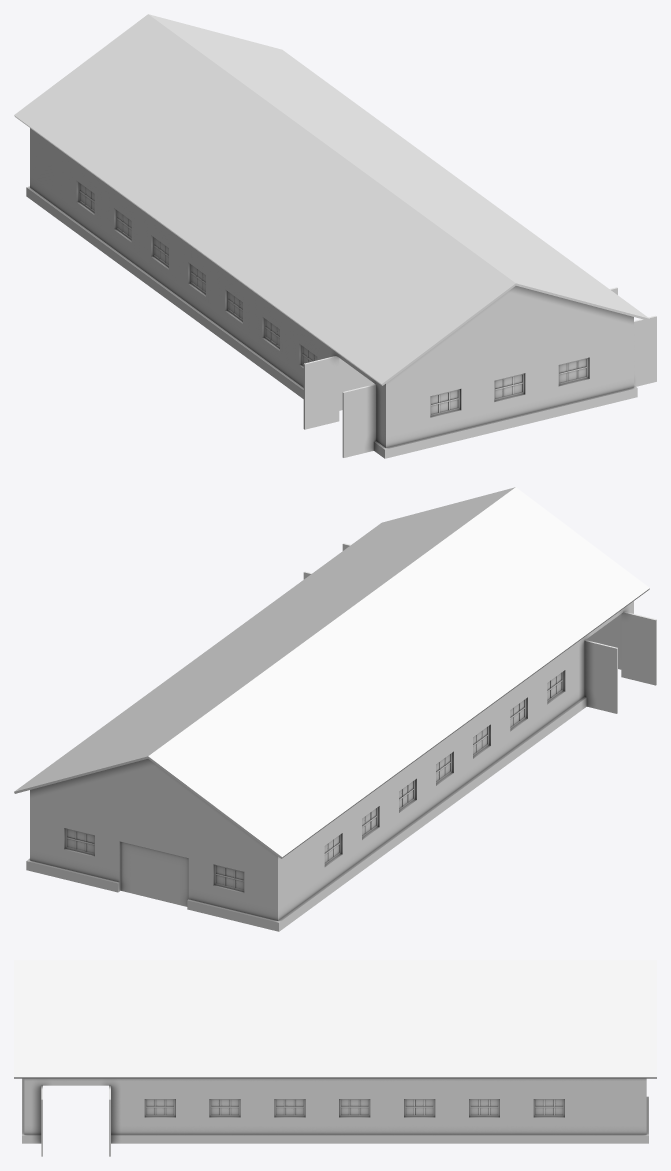
File: MeatProcessingDep.fbx
The picture shows the model from 3 angles, top to bottom: view 1: azimuth 30°, elevation 25°; view 2: azimuth 150°, elevation 25°; view 3: azimuth 270°, elevation 25°; orthographic projection. The views are drawn at different scales.
Visible parts, largest first — view 1: MeetProcessing; view 2: MeetProcessing; view 3: MeetProcessing.
Part boxes in pixels (x1,y1,x2,y2): MeetProcessing: (14, 14, 656, 458); MeetProcessing: (14, 487, 656, 931); MeetProcessing: (14, 960, 656, 1156).
Bounding box in the file's own units: 1.26 × 0.5691 × 2.56.
